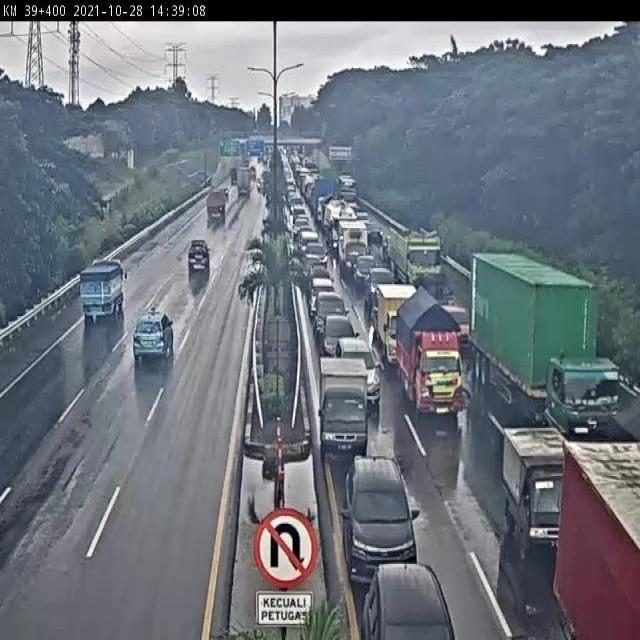big truck: (511, 274, 631, 426)
car: (348, 447, 448, 564), (356, 544, 467, 640), (316, 360, 374, 461), (131, 304, 183, 369), (328, 334, 383, 389)
small truck: (501, 428, 581, 559), (402, 307, 483, 428), (73, 256, 132, 321)
